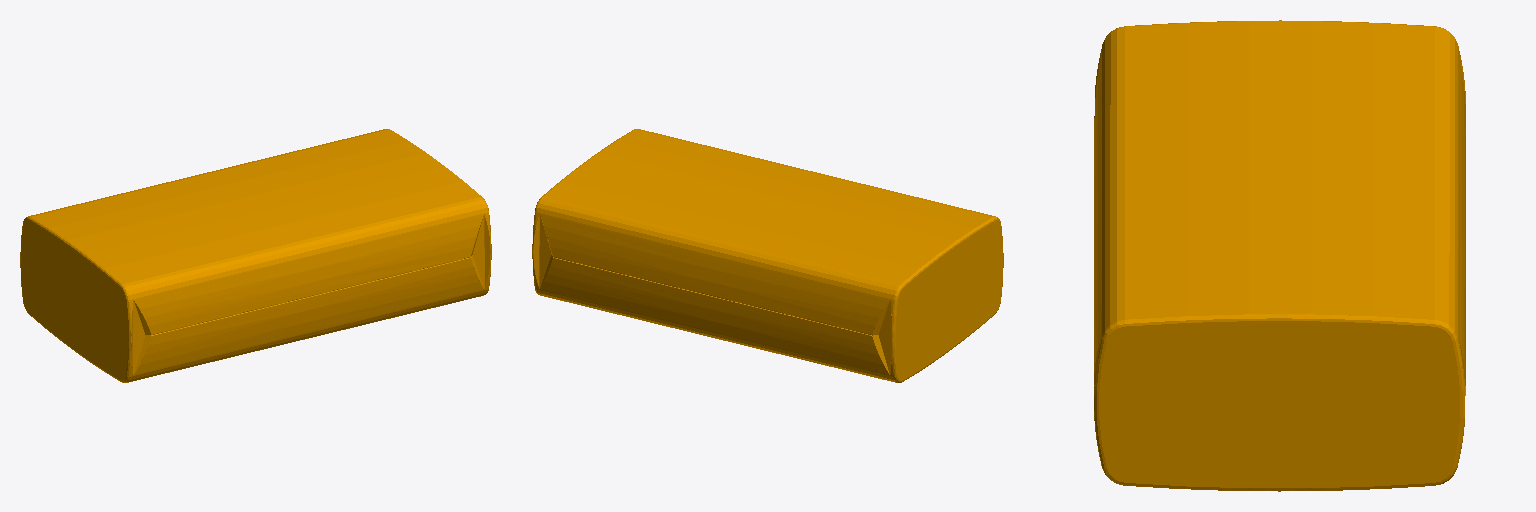
The robot description file, URDF, robot "sacos":
<?xml version="1.0" ?>
<robot name="sacos">
  <link name="base_link">
    <inertial>
      <origin rpy="0.0 0.0 0.0" xyz="0.6 0.0 0.02"/>
      <mass value="20"/>
      <inertia
      ixx="0.0001" ixy="0.0"  ixz="0.0"
      iyy="0.0001" iyz="0.0"
      izz="0.0001" />
    </inertial>
    <visual>
      <origin rpy="1.57 0.0 1.57" xyz="0.0 0.0 0.025"/>
      <geometry>
        <mesh filename="package://kr210_description/supports/sack.stl" scale="0.02 0.02 0.02"/>
      </geometry>
    </visual>
    <collision>
      <origin rpy="1.57 0.0 1.57" xyz="0.0 0.0 0.025"/>
      <geometry>
        <mesh filename="package://kr210_description/supports/sack.stl" scale="0.02 0.02 0.02"/>
      </geometry>
    </collision>
  </link>
</robot>

--- What the picture shows (computed from the rendered views, not written in the file) ---
Views: 3 orthographic renders of the robot side by side, from view 1: azimuth 30°, elevation 25°; view 2: azimuth 150°, elevation 25°; view 3: azimuth 270°, elevation 25°.
Model sacos with 1 links and 0 joints (none), rooted at base_link, posed all joints at 0.
Links seen in each view (by area): view 1: base_link; view 2: base_link; view 3: base_link.
Boxes of the visible links, bbox=[...] form: base_link: bbox=[20, 129, 491, 382]; base_link: bbox=[532, 129, 1003, 382]; base_link: bbox=[1094, 20, 1465, 491].
Bounding box of the posed robot: 1.1 × 0.5808 × 0.3044 m (x, y, z).
Meshes: 1 distinct files referenced, 1 mesh visuals loaded (1 binary STL).